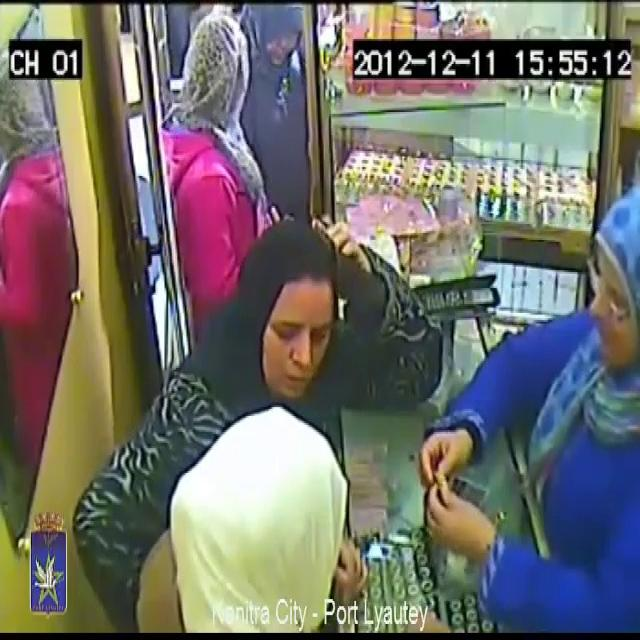Product: (426, 451, 447, 496)
normal: (139, 404, 407, 640), (247, 195, 378, 412), (228, 0, 314, 192)
shoplifting: (413, 204, 640, 640), (149, 1, 311, 274)
